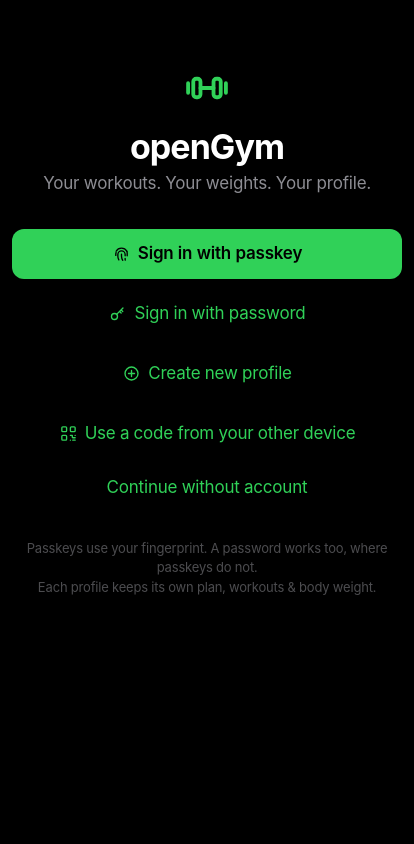
Test: Login with password sign-in › next to passkeys it is a second button, and the footer no longer says "no passwords"
What coordinates should you click on to do the following:
click the button "Sign in with password"
I would click on:
 (207, 314)
Its box is [12,289,402,339].
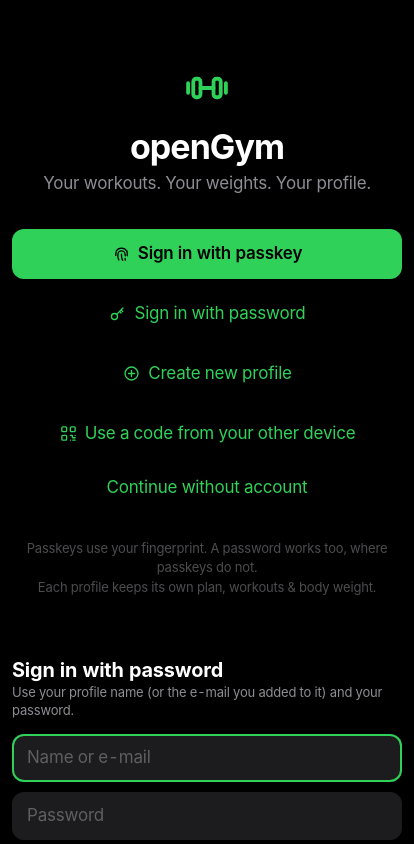
Now the heading "Sign in with password" is shown, box [12,658,223,682]
Now the password field with placeholder "Password" is shown, box [12,792,402,840]
